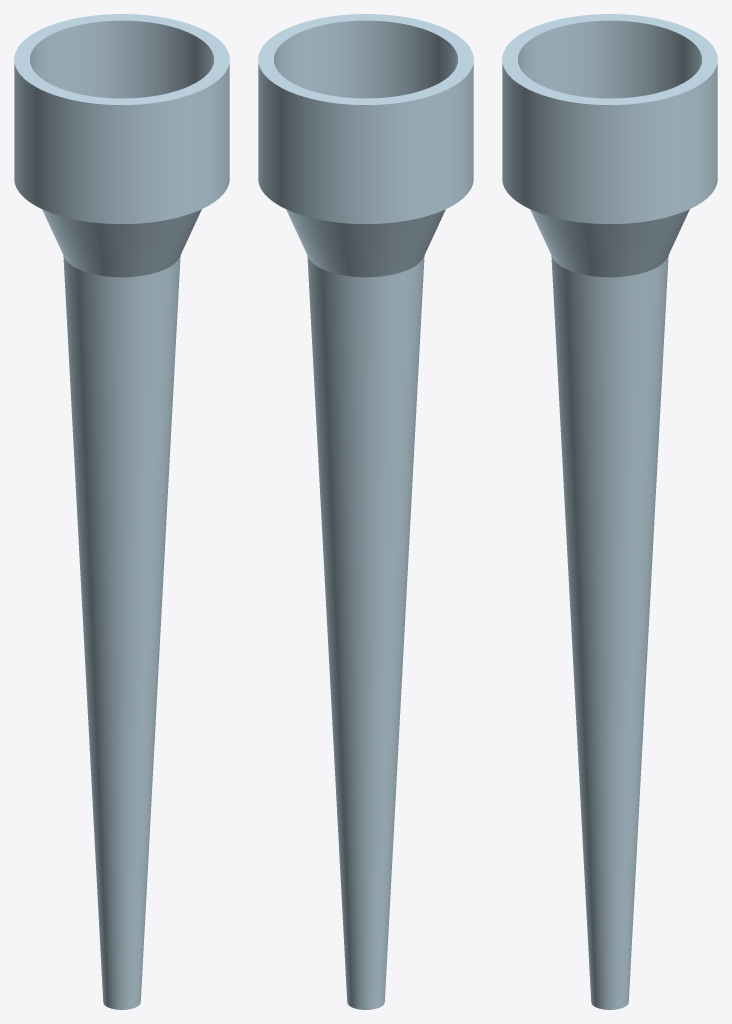
3 renders of one model, left to right at view 1: azimuth 30°, elevation 25°; view 2: azimuth 150°, elevation 25°; view 3: azimuth 270°, elevation 25°, orthographic.
Visible parts, largest first — view 1: Part 1; view 2: Part 1; view 3: Part 1.
Boxes of the visible parts, <box> form: Part 1: <box>14,14,229,1009</box>; Part 1: <box>258,14,473,1009</box>; Part 1: <box>502,14,717,1009</box>.
Bounding box in the file's own units: 0.00413 × 0.0199 × 0.00413.
